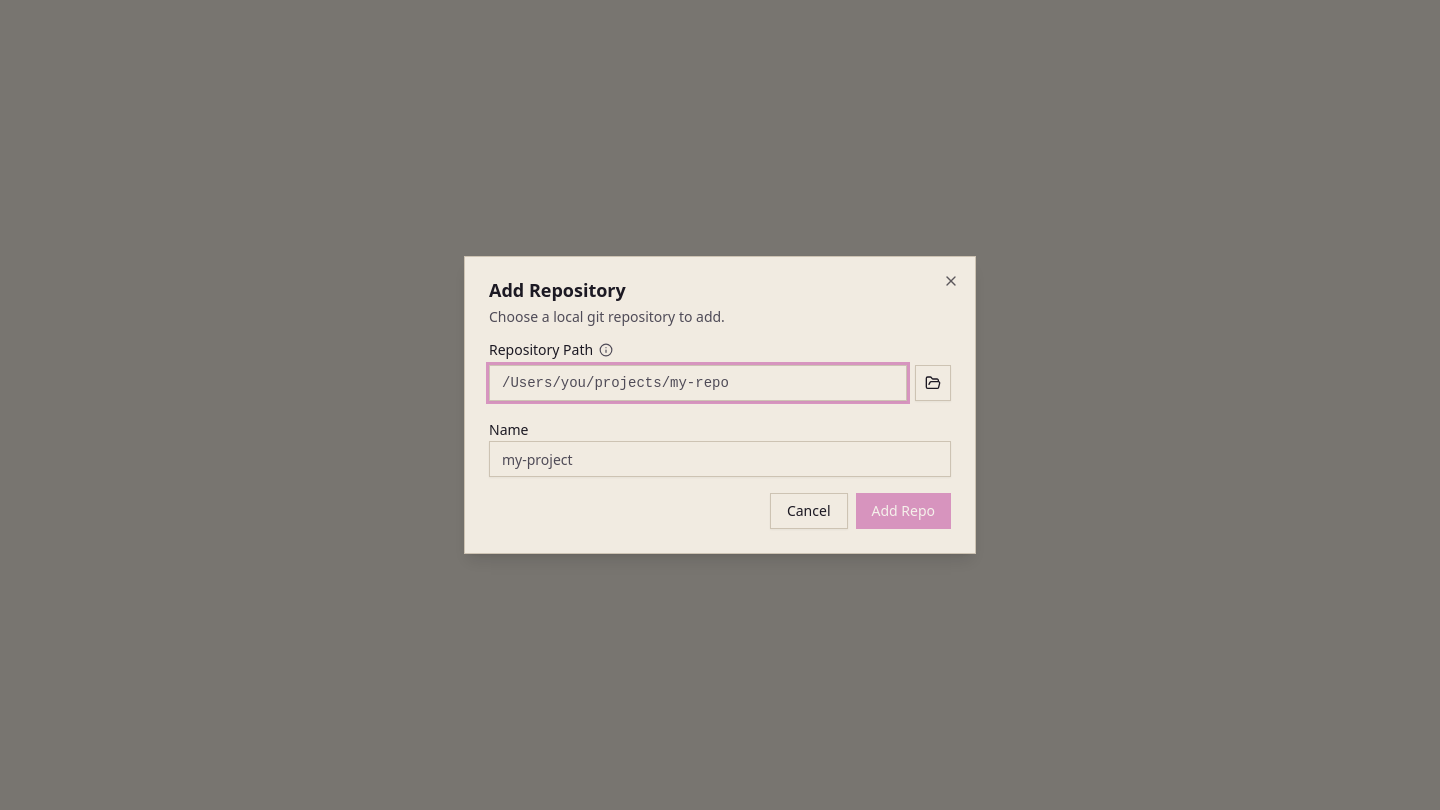
Test: AddRepoDialog › directory picker › shows warning for non-git directories
Click the button titled "Browse...": (933, 383) [915,365,951,401]
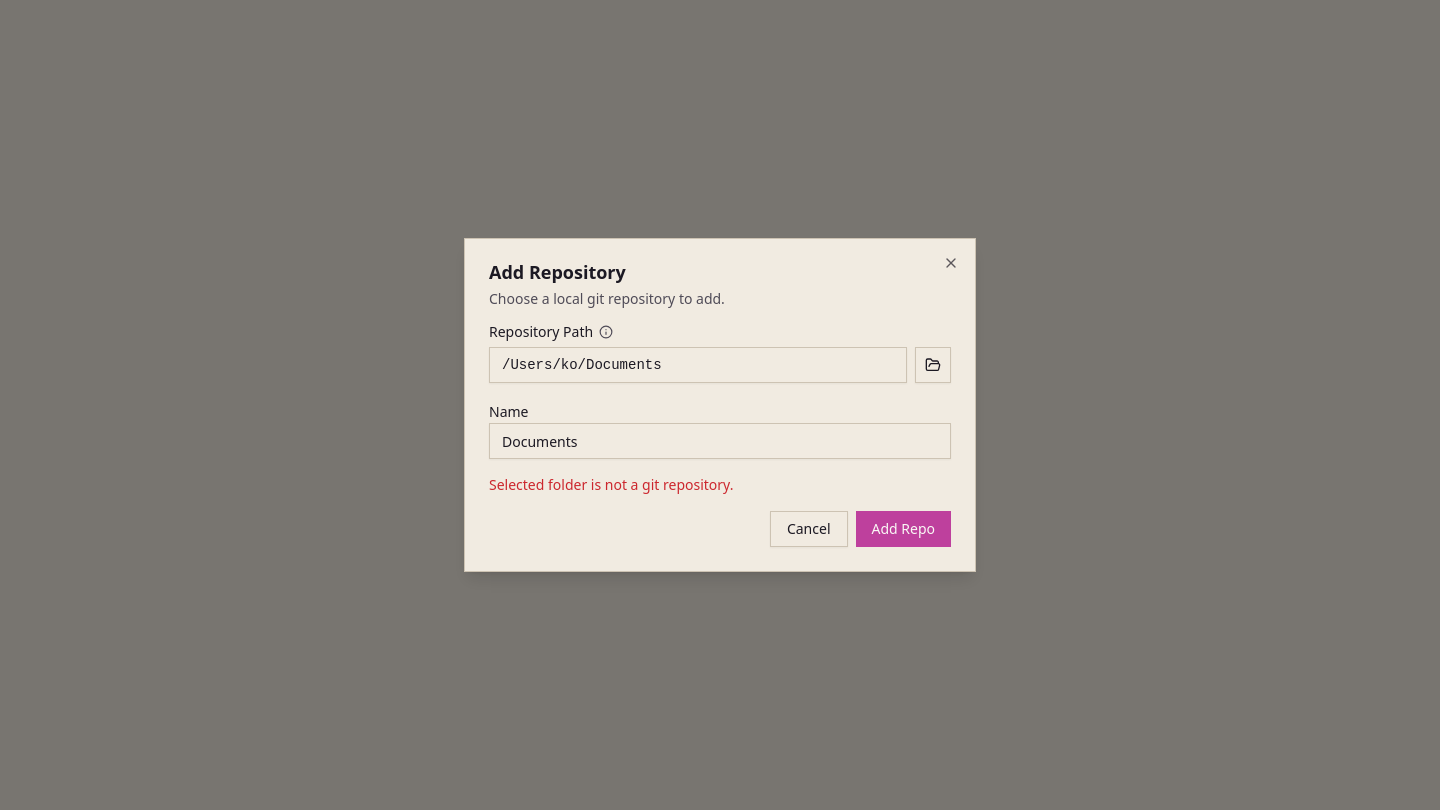
Expected: the text "Selected folder is not a git repository." is shown, [489,475,734,494]
